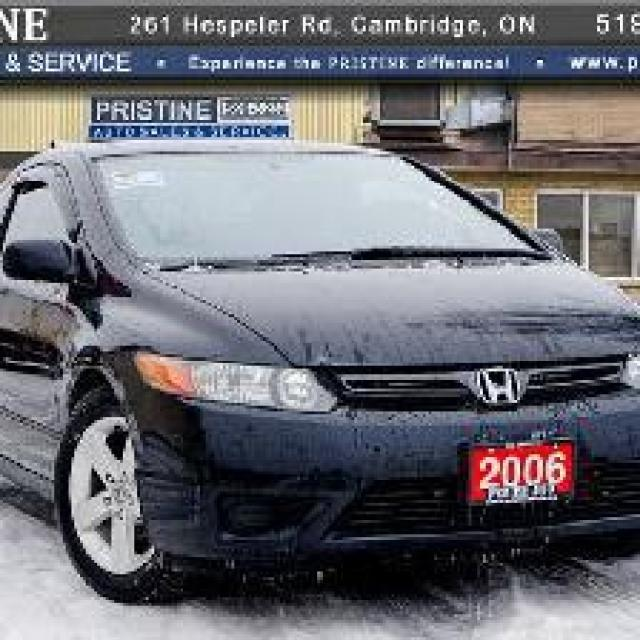damaged: (0, 288, 106, 448)
